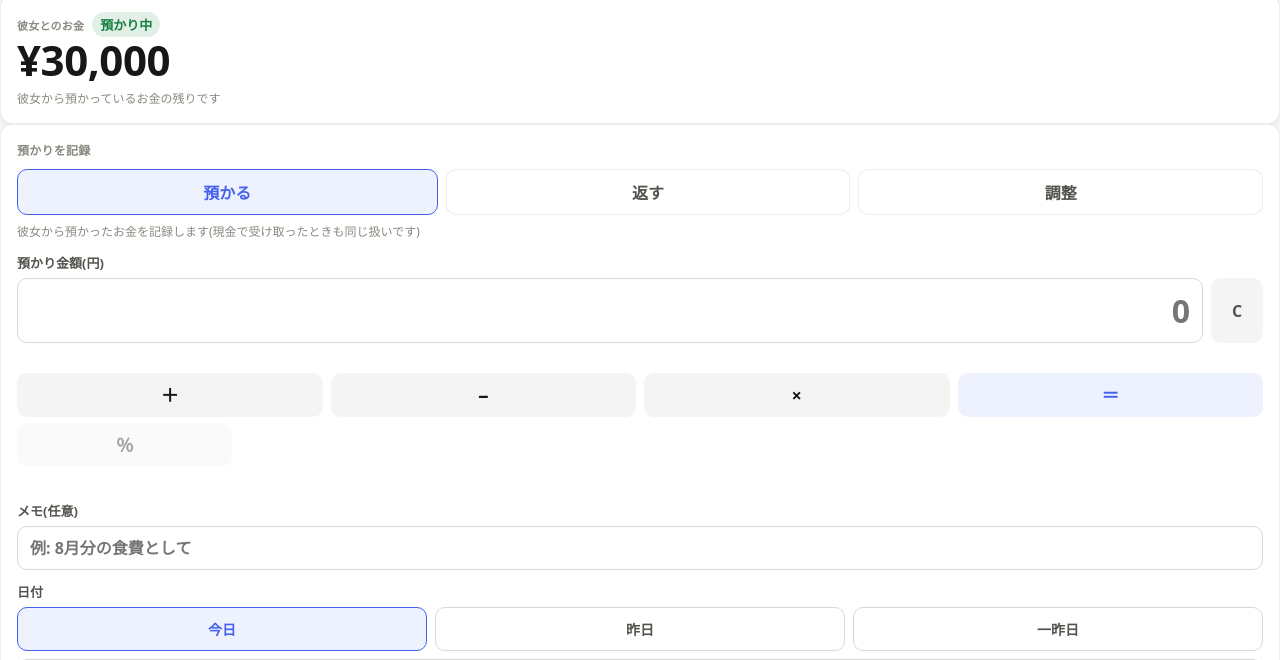
記録カードの「この記録のあと」 › 調整の向きを変えると、見込みも同じ向きに動く
Step 1. Click the button "調整" → [1061, 192], box x1=858 y1=169 x2=1263 y2=215
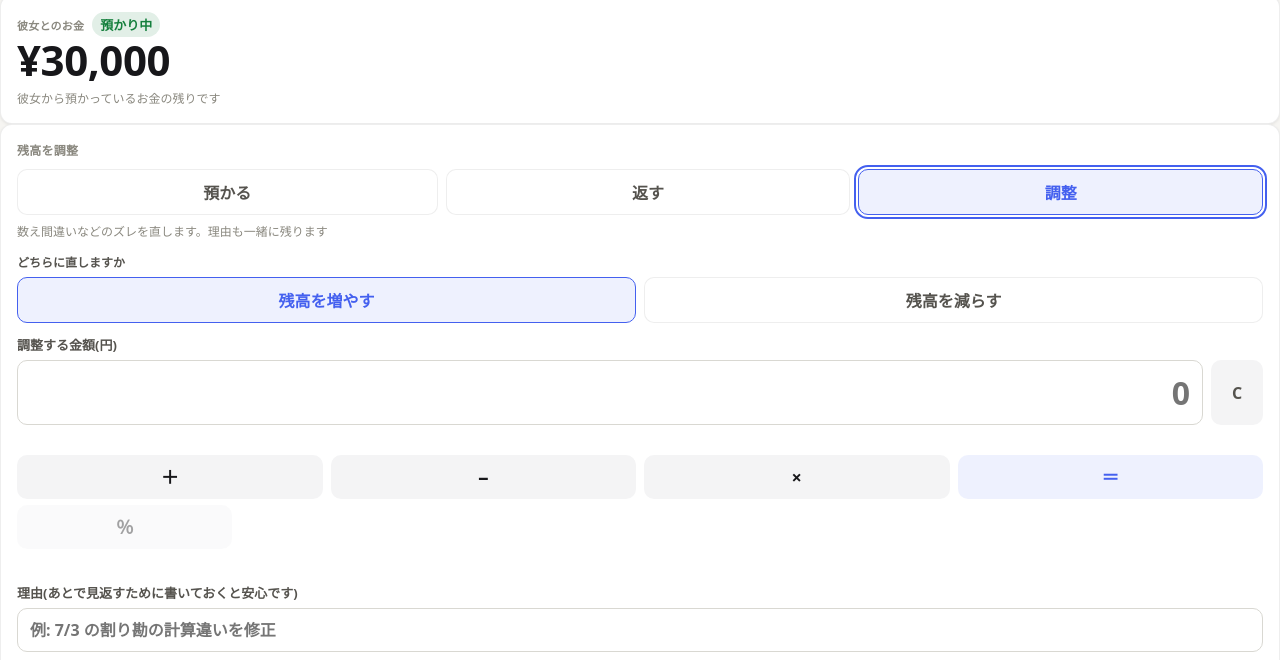
Step 2. Type "700" into the field named "調整する金額(円)" → [610, 393], box x1=17 y1=360 x2=1203 y2=425
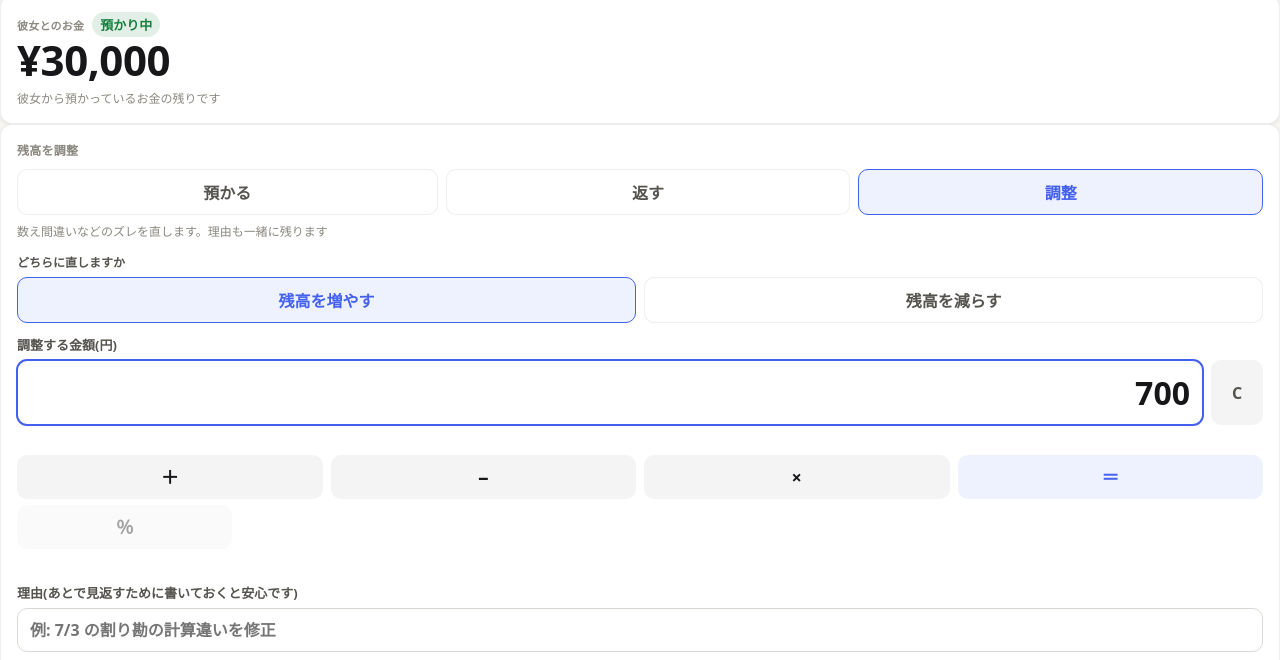
Step 3. Click the button "残高を減らす" → [954, 300], box x1=644 y1=277 x2=1263 y2=323
(page scrolled)
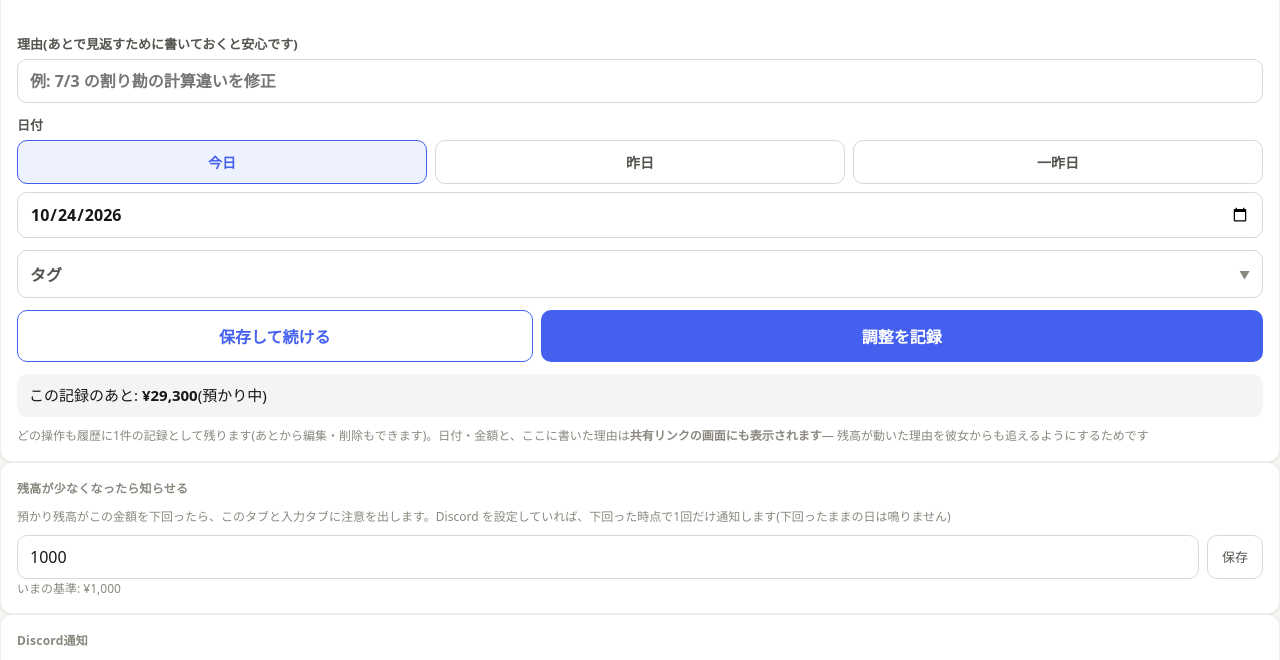
expect the text "この記録のあと: ¥29,300(預かり中)" is shown: met, box x1=17 y1=374 x2=1263 y2=417
